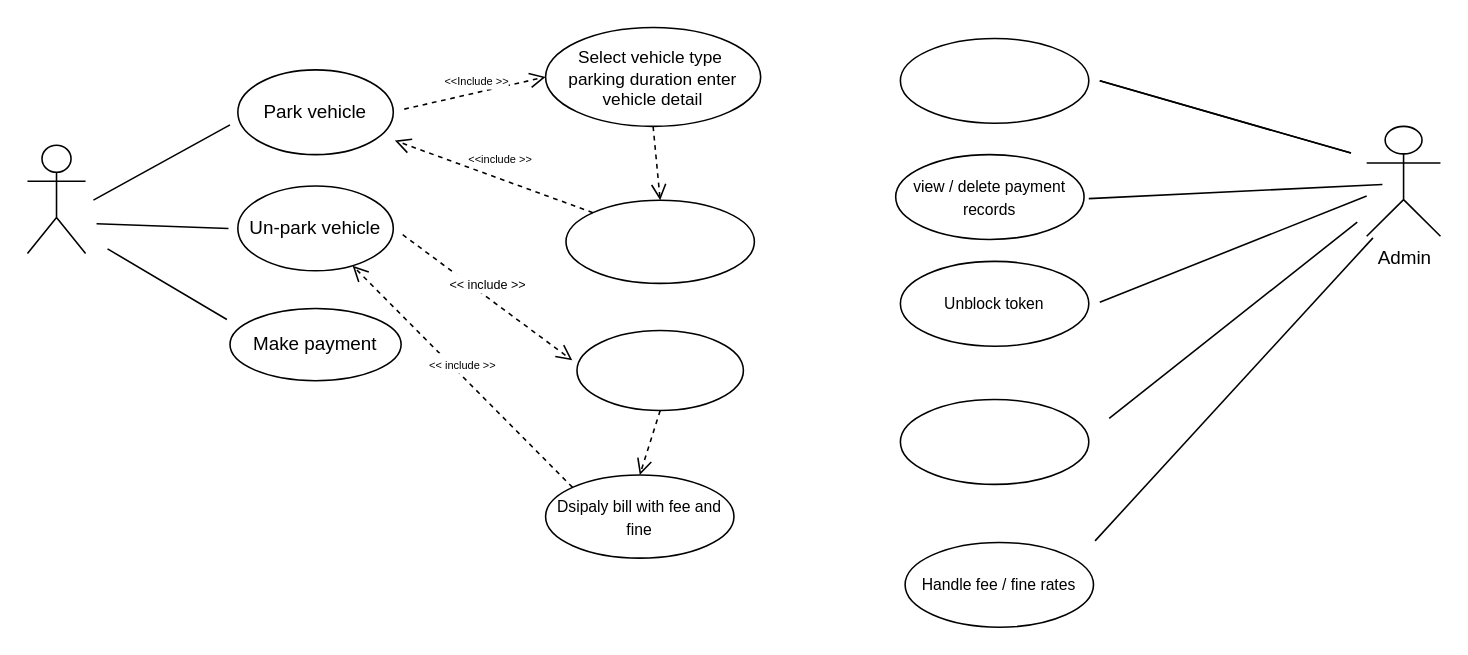
Image size: 1468x655. Some labels were removed from this diagram. The box of each missing label's shape, as (x1, y1, x2, y2) in pixels:
Display bill along Token: (564, 199, 754, 283)
Input vehicle no and token: (575, 329, 743, 411)
User: (26, 144, 86, 254)
view / delete parking records: (899, 37, 1089, 123)
withdraw payment: (899, 398, 1089, 484)
